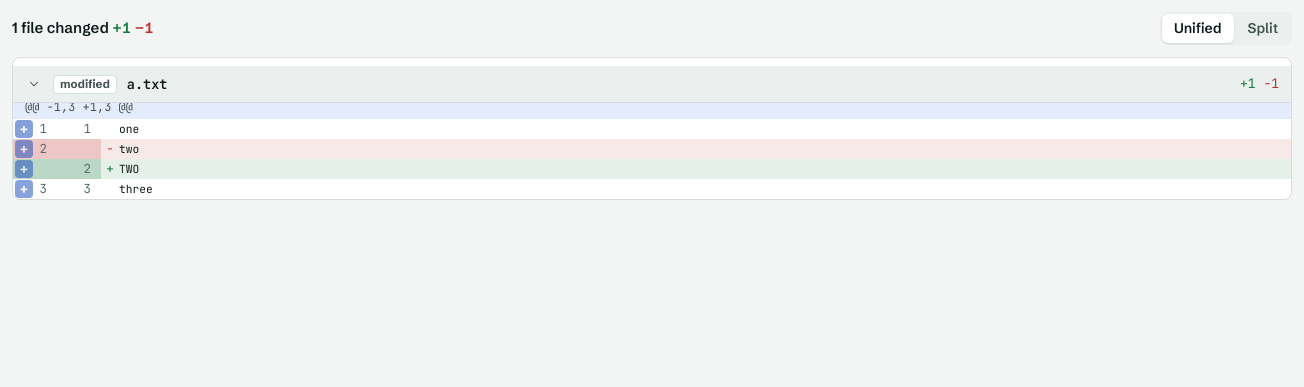
it: comments on diff lines › keeps the form and says why when the server refuses
Click the button named "Comment on line 1".
click(24, 129)  # box [15,120,33,138]
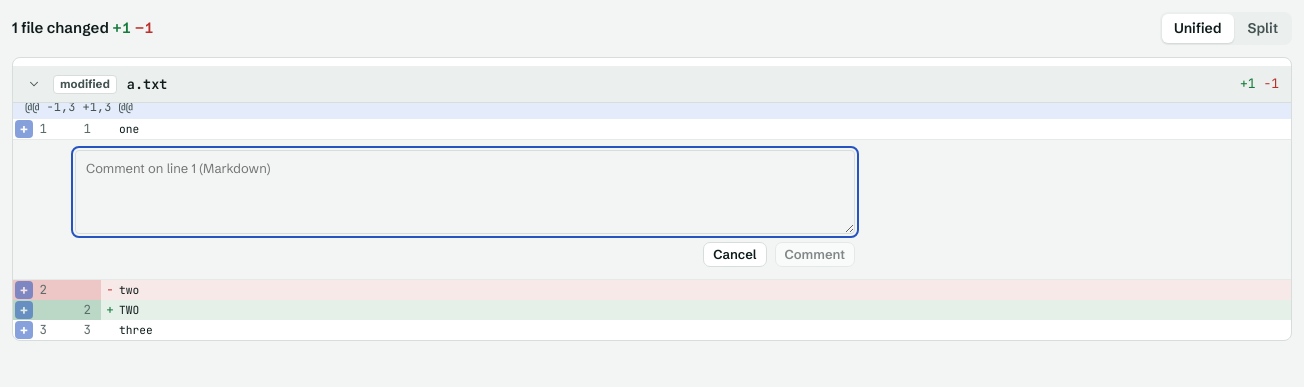
Type "hmm" into the text box.
click(465, 192); type("hmm")  # box [75,150,855,234]
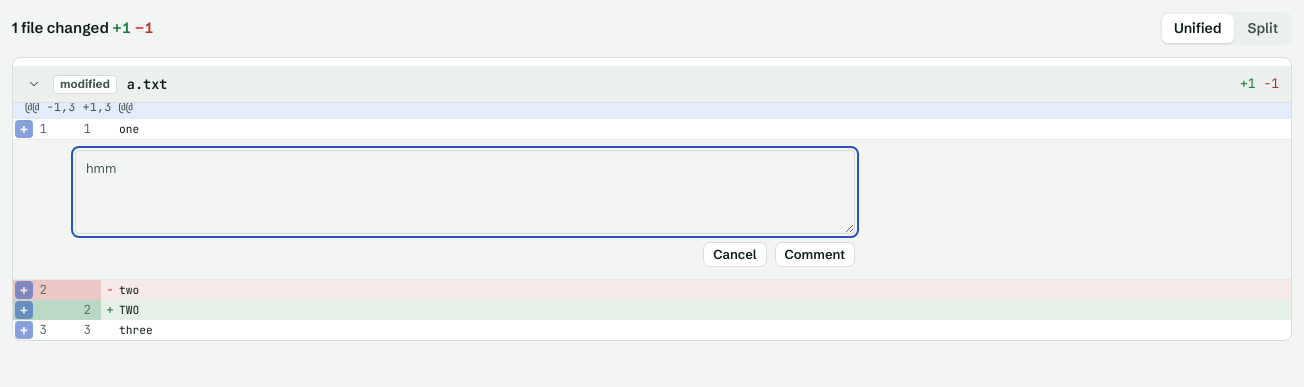
Click the button "Comment".
click(815, 255)  # box [774,242,855,267]
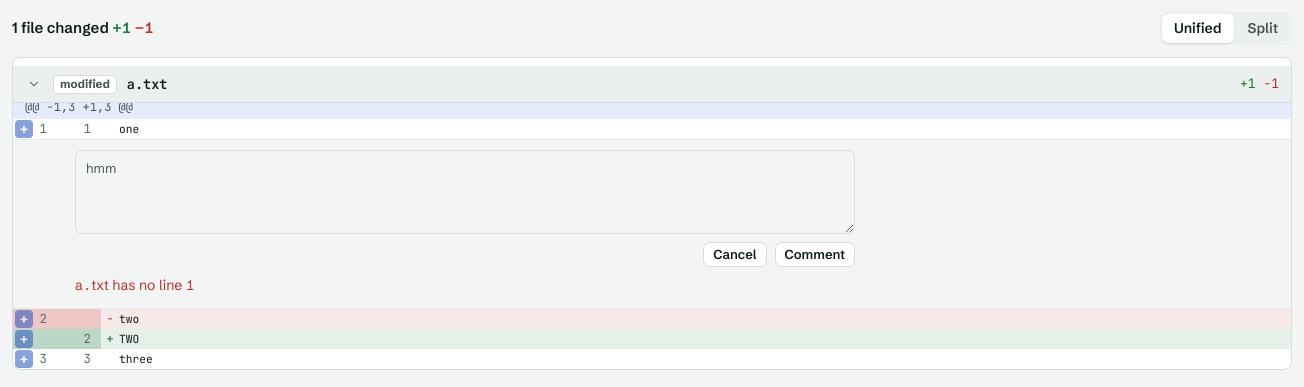
Check: the message reads "a.txt has no line 1", box [75,276,195,294]
